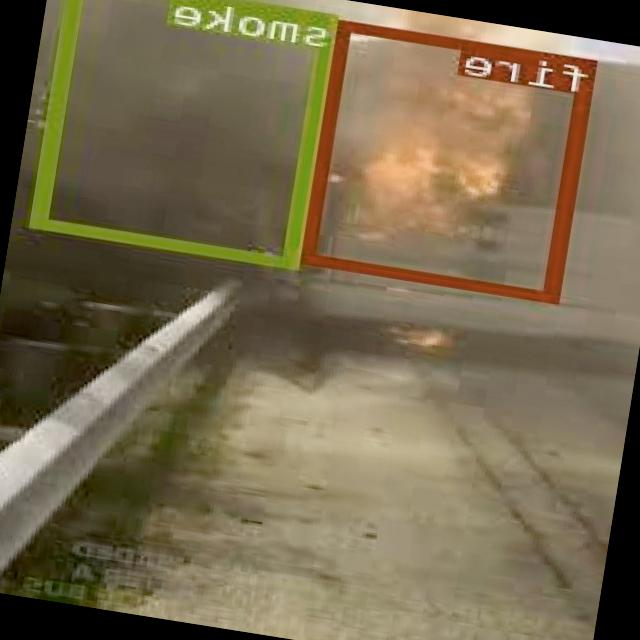fire: (302, 18, 600, 303)
smoke: (36, 0, 341, 269)
